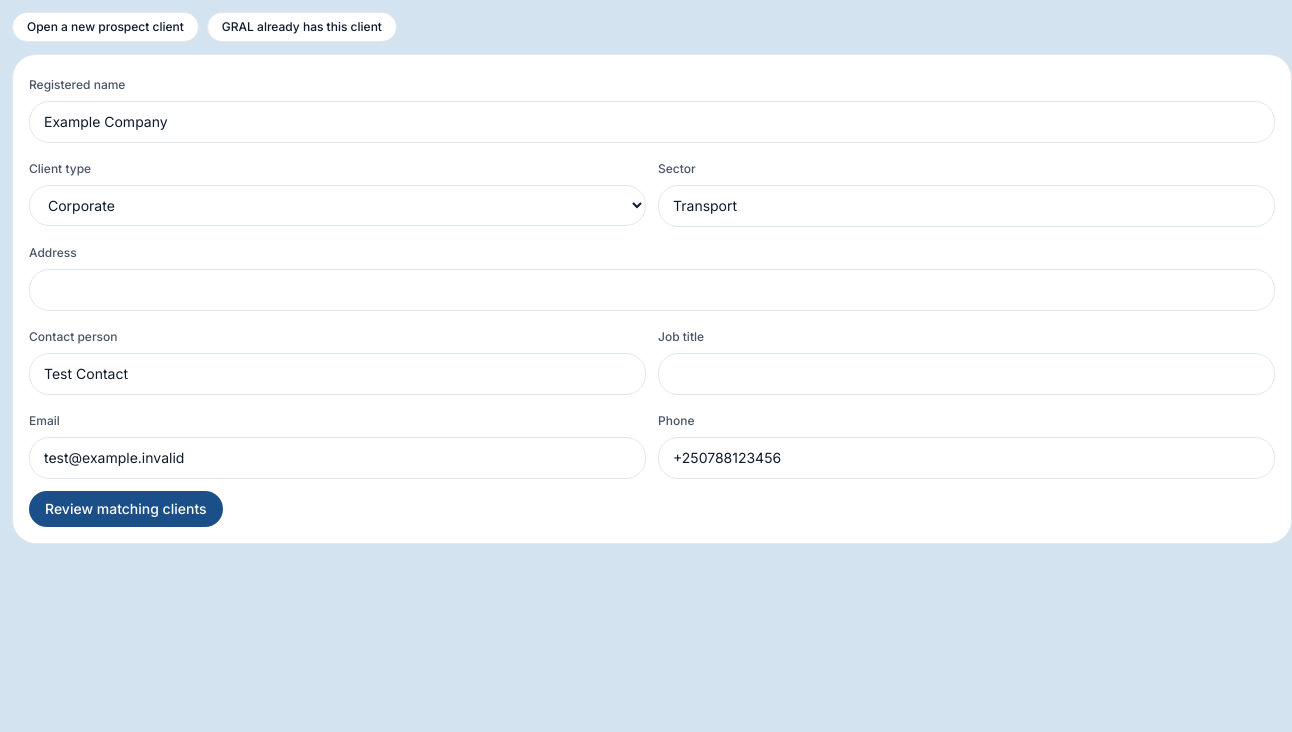
duplicate reviews and command recovery › invalidates duplicate review when submitted identity fields change
The image size is (1292, 732).
Type "Kigali" into the field labelled "Address" at (652, 290), box [29,269,1275,311]
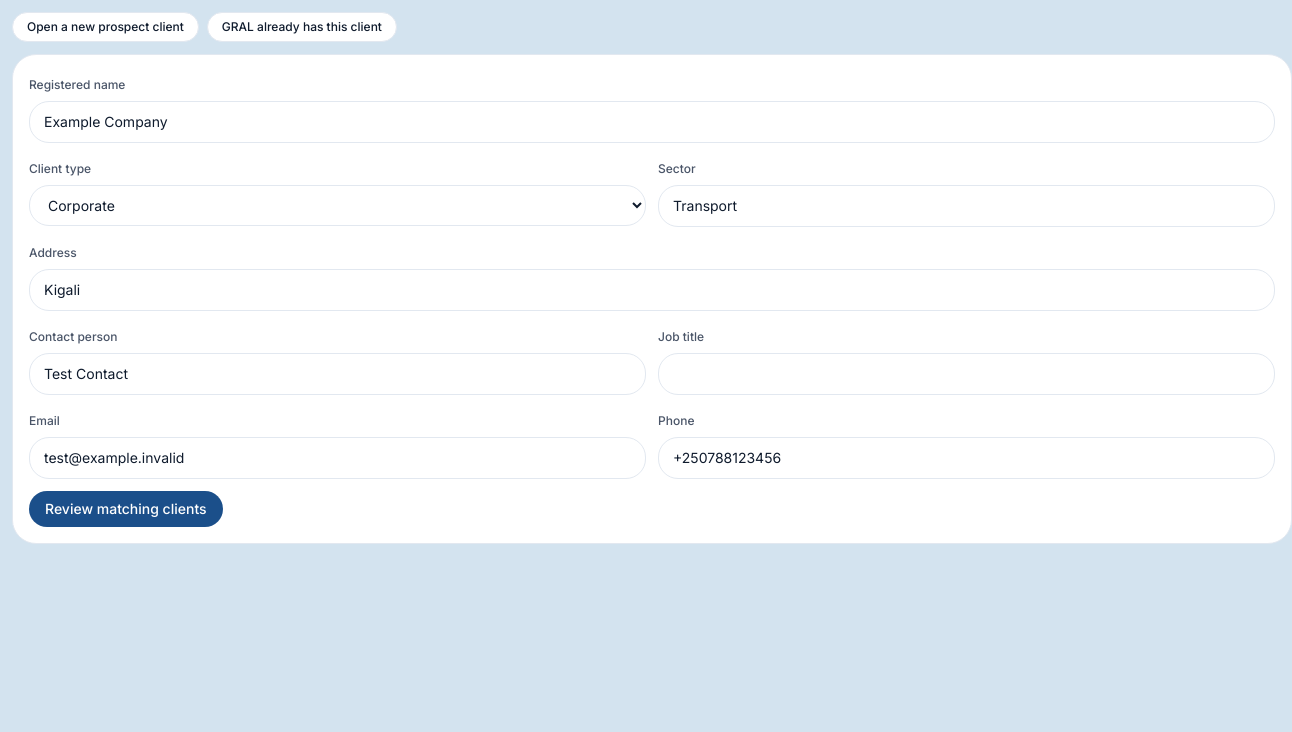
Type "Director" into the field labelled "Job title" at (966, 374), box [658,353,1275,395]
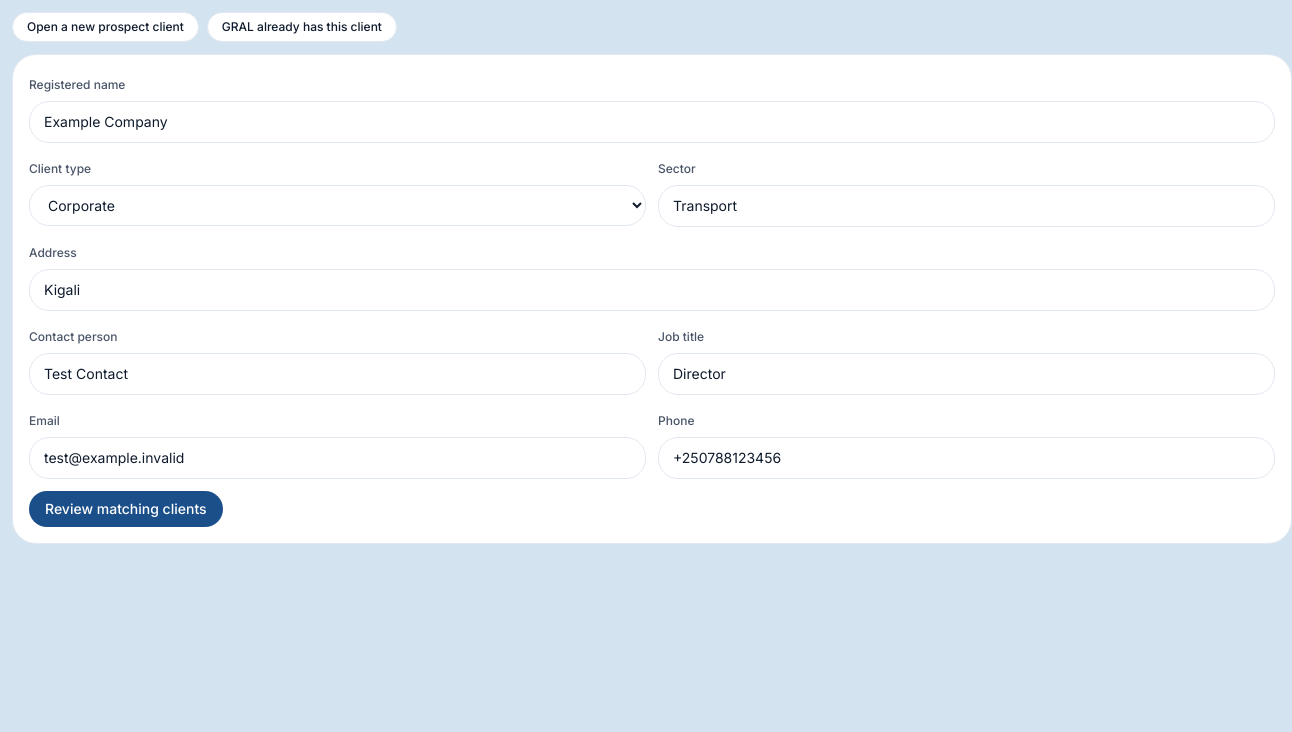
Click the button "Review matching clients" at (126, 509), box [29,491,223,527]
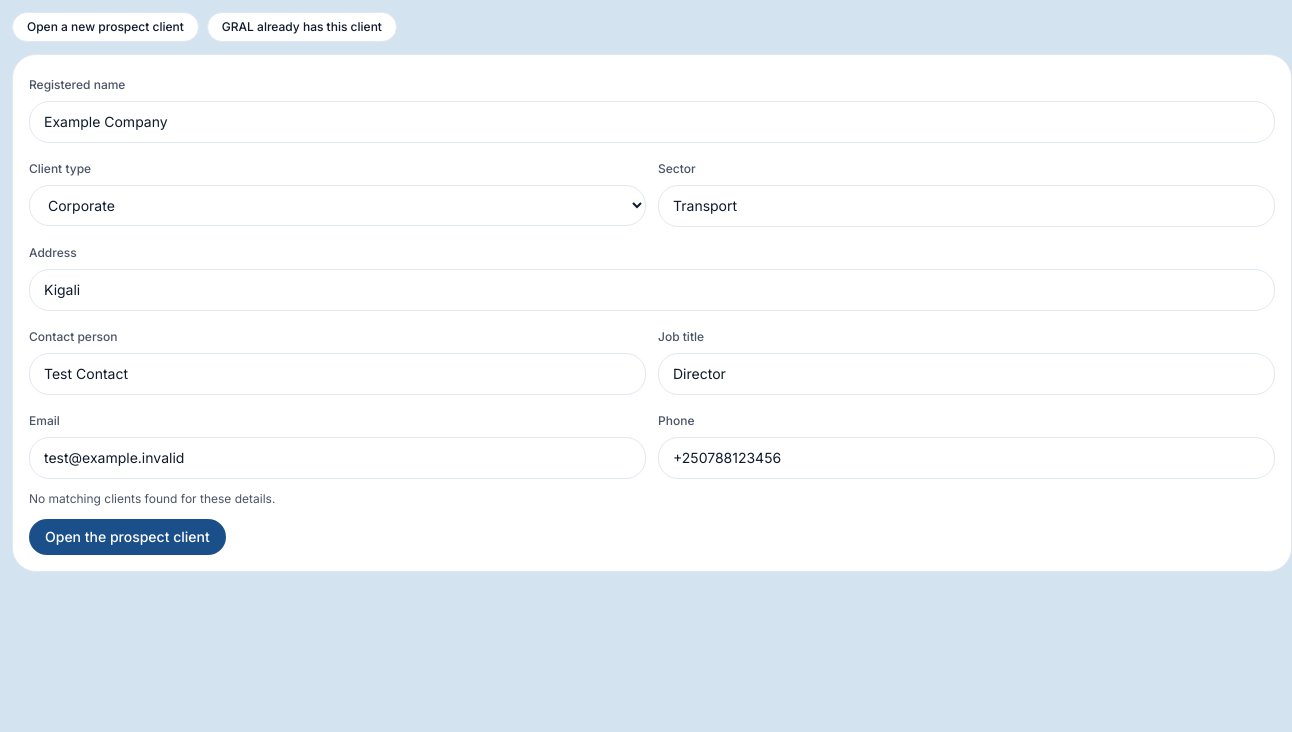
Result: the text "No matching clients found for these details." is shown at [29,491,275,506]
Replace the text in the field labelled "Registered name" with "Different company" at (652, 122), box [29,101,1275,143]
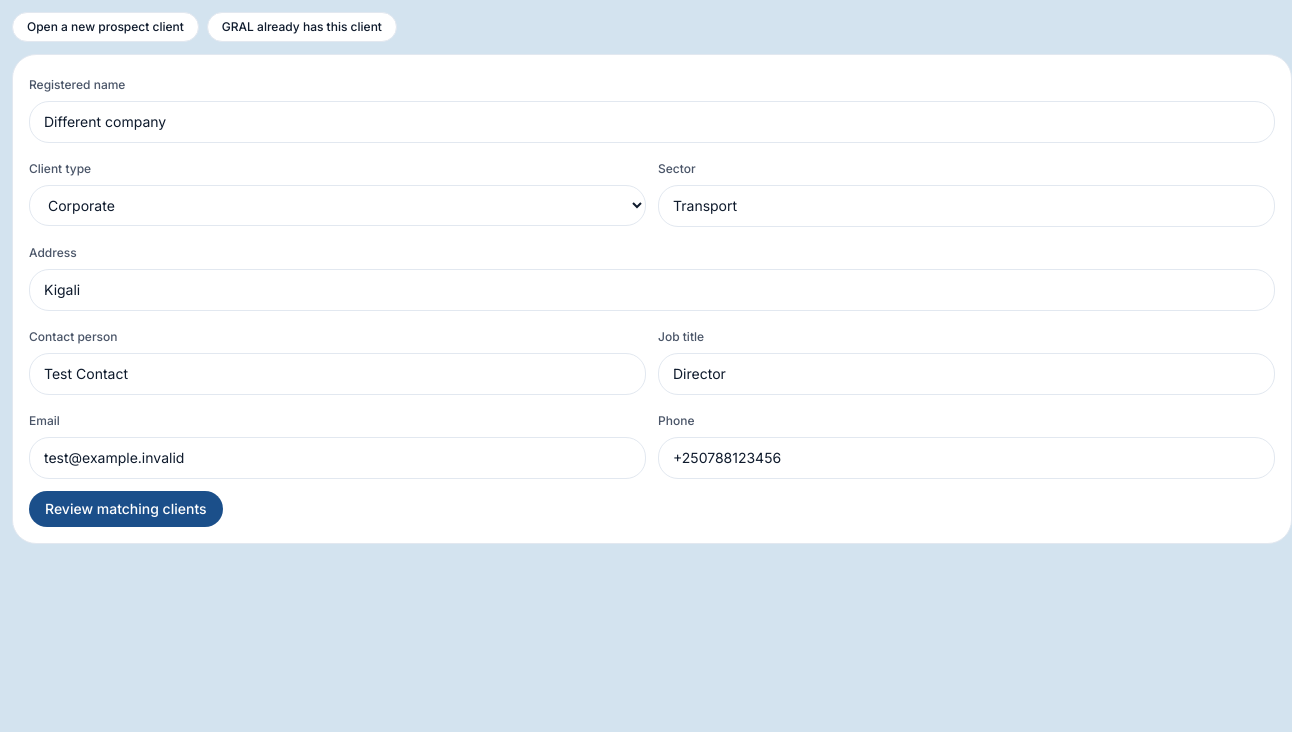
Result: the button "Review matching clients" is shown at [29,491,223,527]
Result: the text "No matching clients found for these details." is gone
